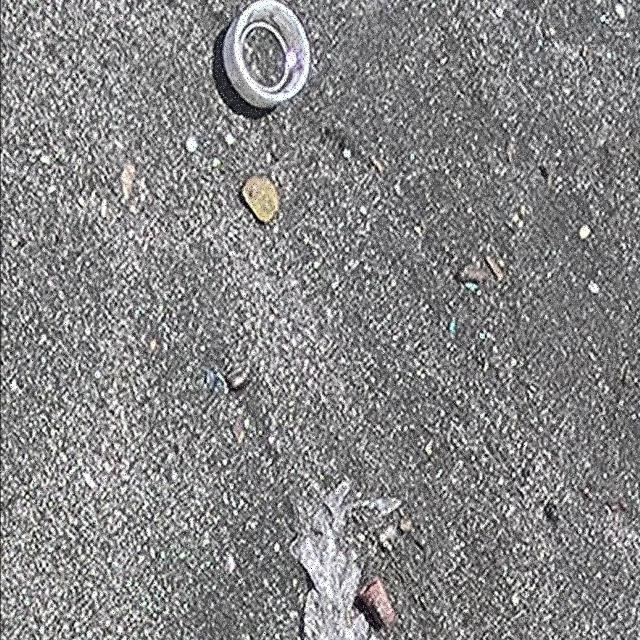plastic_waste: (223, 1, 312, 111)
